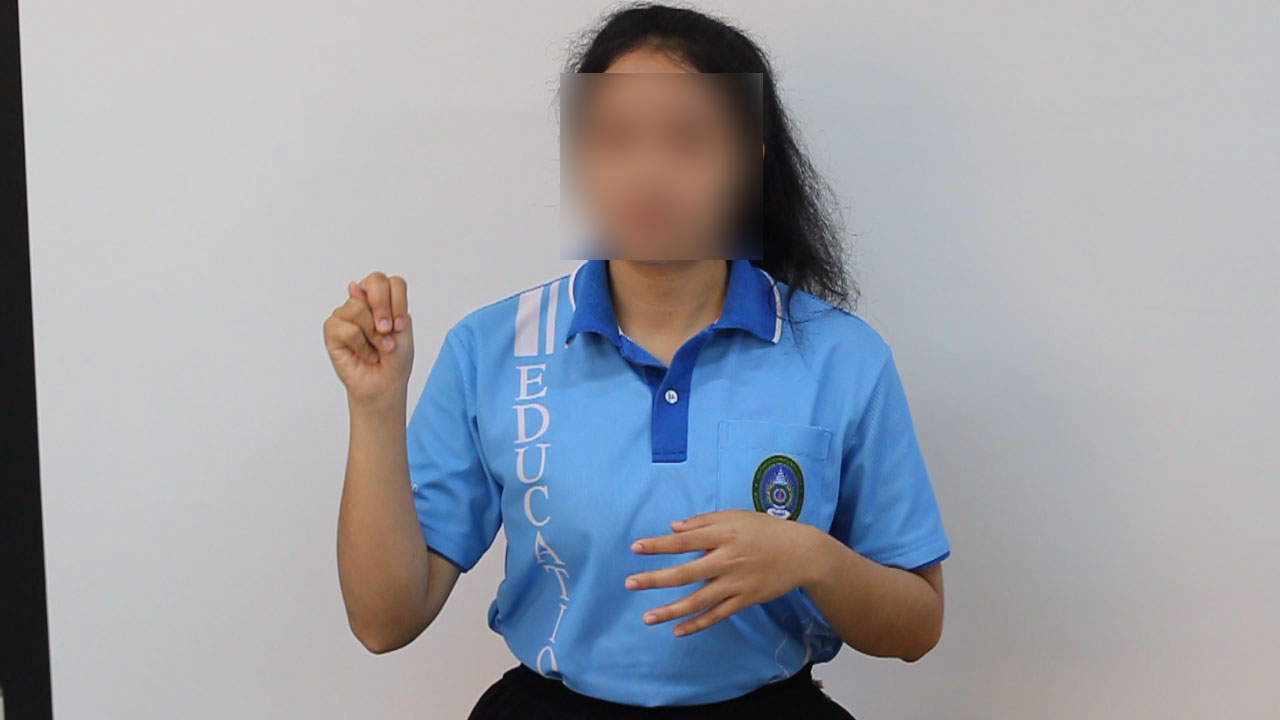nor: (321, 259, 424, 411)
